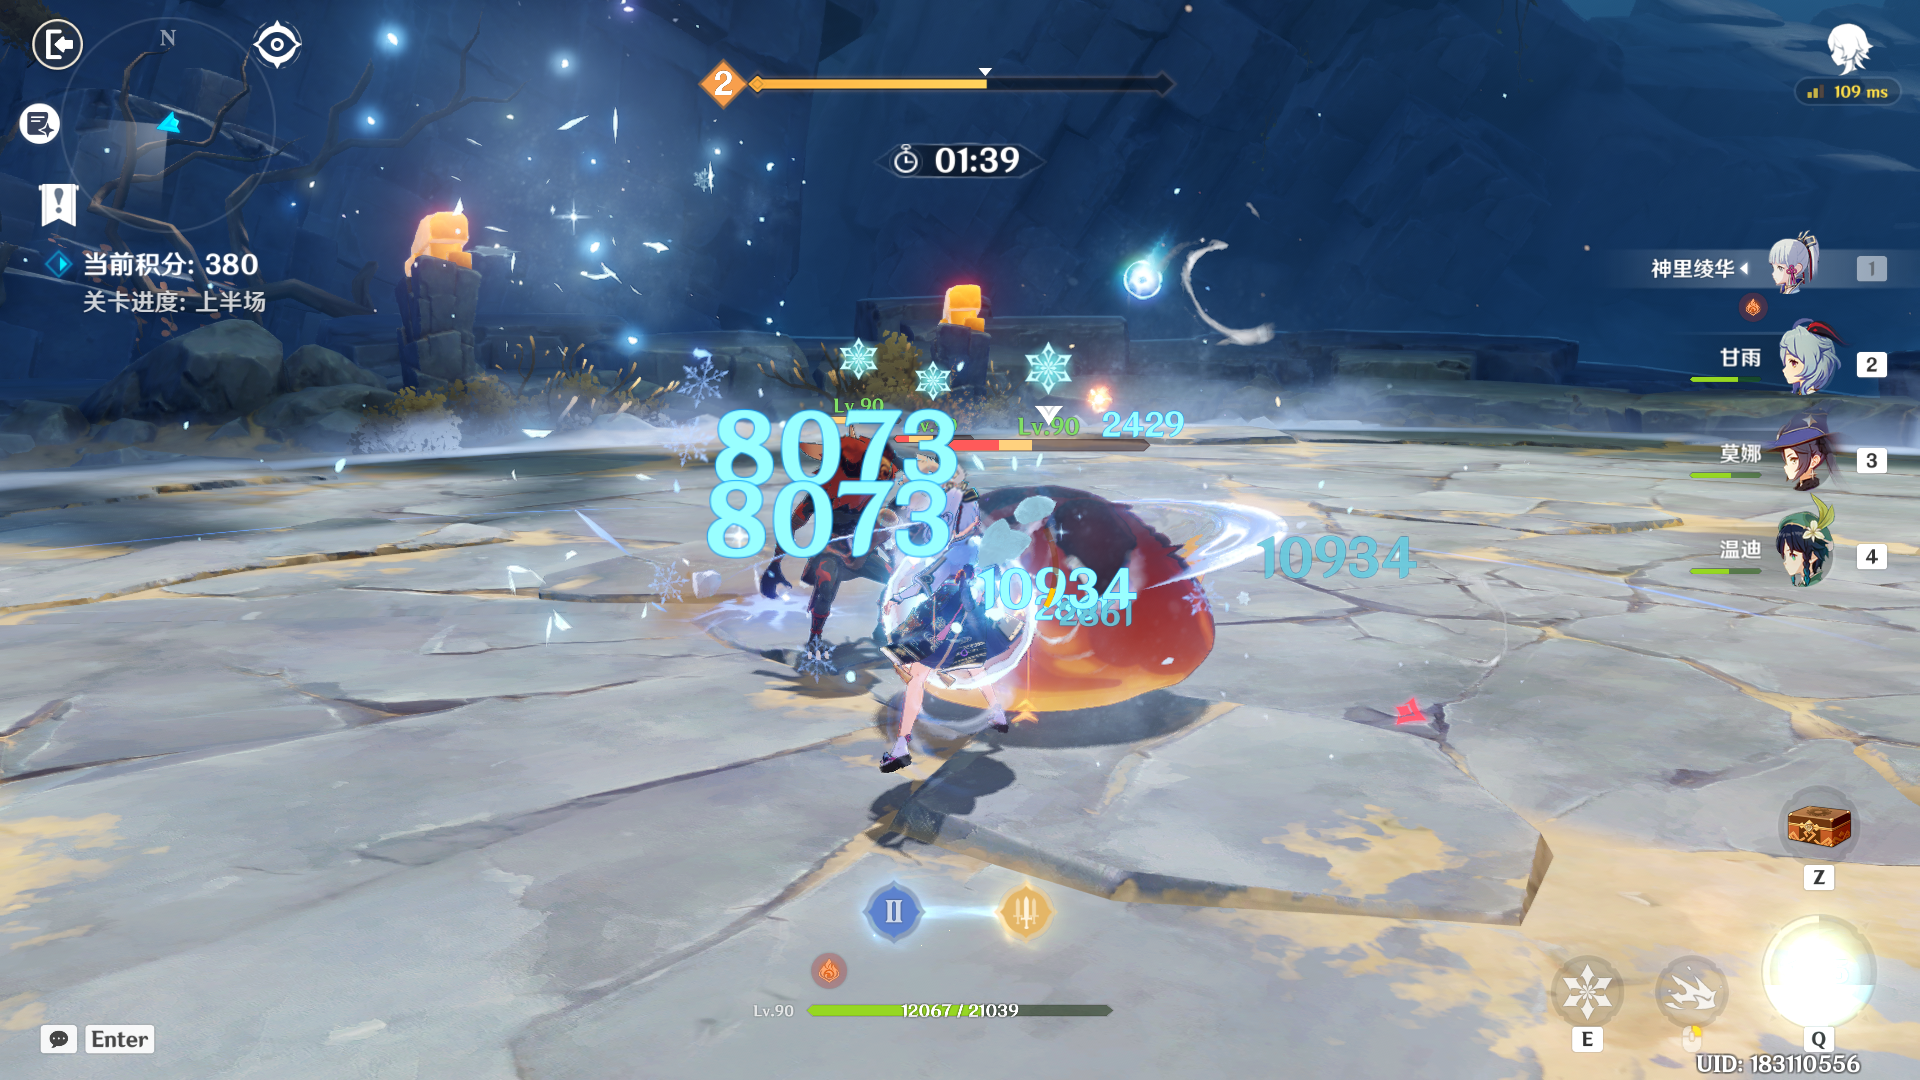character: (870, 473, 1073, 825)
hili: (758, 413, 942, 705)
slime: (861, 462, 1250, 721)
